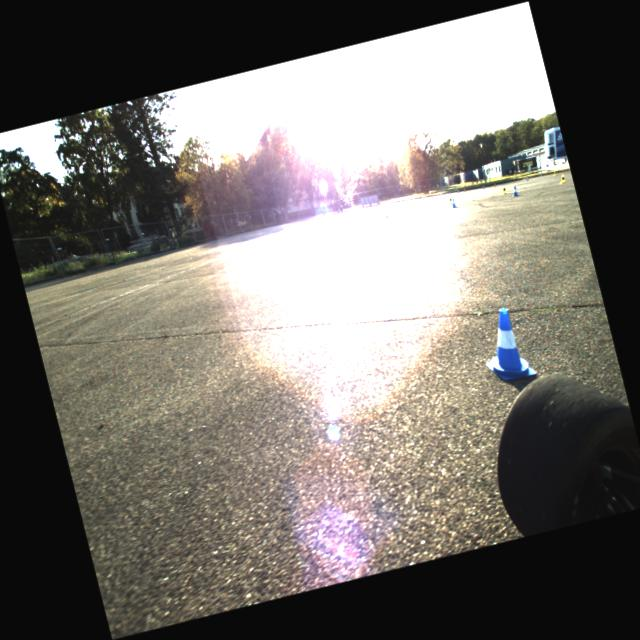blue_cone: (474, 304, 536, 384), (510, 184, 519, 197), (450, 197, 457, 208), (384, 210, 389, 219), (524, 176, 528, 180), (457, 189, 460, 193), (482, 184, 484, 188), (439, 192, 441, 196)
yellow_cone: (557, 173, 566, 184), (501, 185, 507, 194), (448, 196, 452, 204), (492, 183, 497, 188), (552, 170, 556, 176), (464, 188, 466, 193), (436, 193, 438, 197)
